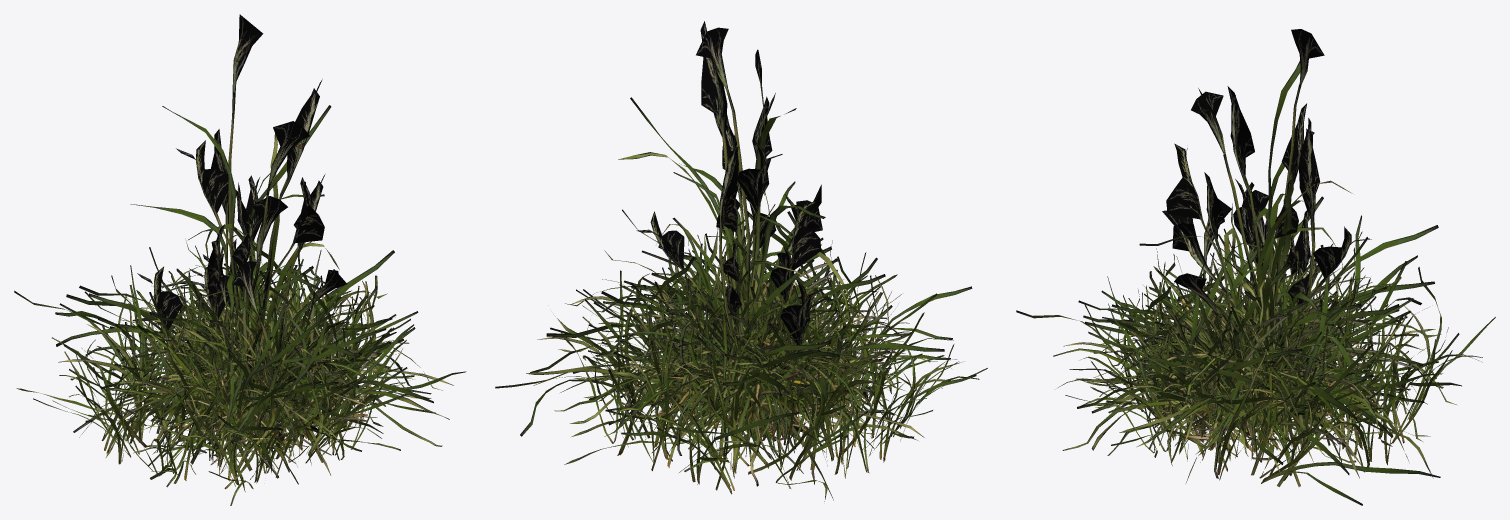
File: grass_medium_01.fbx
3 renders of one model, left to right at view 1: azimuth 30°, elevation 25°; view 2: azimuth 150°, elevation 25°; view 3: azimuth 270°, elevation 25°, orthographic. The views are drawn at different scales.
Visible parts, largest first — view 1: grass_medium_01_large_a_LOD0, grass_medium_01_large_c_LOD0, grass_medium_01_large_b_LOD0, grass_medium_01_mid_a_LOD0, grass_medium_01_tall_b_LOD0, grass_medium_01_tall_a_LOD0, grass_medium_01_tall_c_LOD0, grass_medium_01_mid_c_LOD0, grass_medium_01_mid_b_LOD0, grass_medium_01_small_a_LOD0, grass_medium_01_small_b_LOD0; view 2: grass_medium_01_large_a_LOD0, grass_medium_01_large_b_LOD0, grass_medium_01_large_c_LOD0, grass_medium_01_tall_a_LOD0, grass_medium_01_mid_a_LOD0, grass_medium_01_tall_b_LOD0, grass_medium_01_tall_c_LOD0, grass_medium_01_mid_b_LOD0, grass_medium_01_mid_c_LOD0, grass_medium_01_small_a_LOD0; view 3: grass_medium_01_large_a_LOD0, grass_medium_01_large_c_LOD0, grass_medium_01_large_b_LOD0, grass_medium_01_mid_a_LOD0, grass_medium_01_tall_b_LOD0, grass_medium_01_tall_a_LOD0, grass_medium_01_tall_c_LOD0, grass_medium_01_mid_c_LOD0, grass_medium_01_mid_b_LOD0, grass_medium_01_small_b_LOD0, grass_medium_01_small_a_LOD0.
Boxes of the visible parts, box(x1,y1,x2,y2) form: grass_medium_01_large_a_LOD0: box(14, 228, 415, 505); grass_medium_01_large_c_LOD0: box(89, 255, 466, 478); grass_medium_01_large_b_LOD0: box(56, 235, 453, 475); grass_medium_01_mid_a_LOD0: box(73, 174, 431, 468); grass_medium_01_tall_b_LOD0: box(171, 79, 339, 425); grass_medium_01_tall_a_LOD0: box(130, 14, 331, 343); grass_medium_01_tall_c_LOD0: box(137, 129, 345, 432); grass_medium_01_mid_c_LOD0: box(147, 268, 390, 472); grass_medium_01_mid_b_LOD0: box(89, 216, 335, 484); grass_medium_01_small_a_LOD0: box(139, 273, 357, 491); grass_medium_01_small_b_LOD0: box(140, 307, 377, 472); grass_medium_01_large_a_LOD0: box(495, 209, 987, 501); grass_medium_01_large_b_LOD0: box(526, 204, 929, 461); grass_medium_01_large_c_LOD0: box(530, 211, 952, 473); grass_medium_01_tall_a_LOD0: box(628, 27, 825, 388); grass_medium_01_mid_a_LOD0: box(573, 115, 880, 500); grass_medium_01_tall_b_LOD0: box(618, 21, 854, 343); grass_medium_01_tall_c_LOD0: box(668, 134, 837, 440); grass_medium_01_mid_b_LOD0: box(610, 188, 892, 486); grass_medium_01_mid_c_LOD0: box(589, 215, 888, 435); grass_medium_01_small_a_LOD0: box(619, 231, 900, 457); grass_medium_01_large_a_LOD0: box(1016, 196, 1495, 505); grass_medium_01_large_c_LOD0: box(1069, 228, 1442, 474); grass_medium_01_large_b_LOD0: box(1058, 214, 1456, 482); grass_medium_01_mid_a_LOD0: box(1094, 172, 1418, 449); grass_medium_01_tall_b_LOD0: box(1158, 86, 1352, 441); grass_medium_01_tall_a_LOD0: box(1139, 29, 1371, 406); grass_medium_01_tall_c_LOD0: box(1162, 118, 1347, 413); grass_medium_01_mid_c_LOD0: box(1107, 203, 1404, 462); grass_medium_01_mid_b_LOD0: box(1108, 216, 1402, 480); grass_medium_01_small_b_LOD0: box(1118, 277, 1393, 460); grass_medium_01_small_a_LOD0: box(1139, 257, 1374, 442).
Bounding box in the file's own units: 0.317 × 0.3225 × 0.3266.
1 material, 1 textured.
